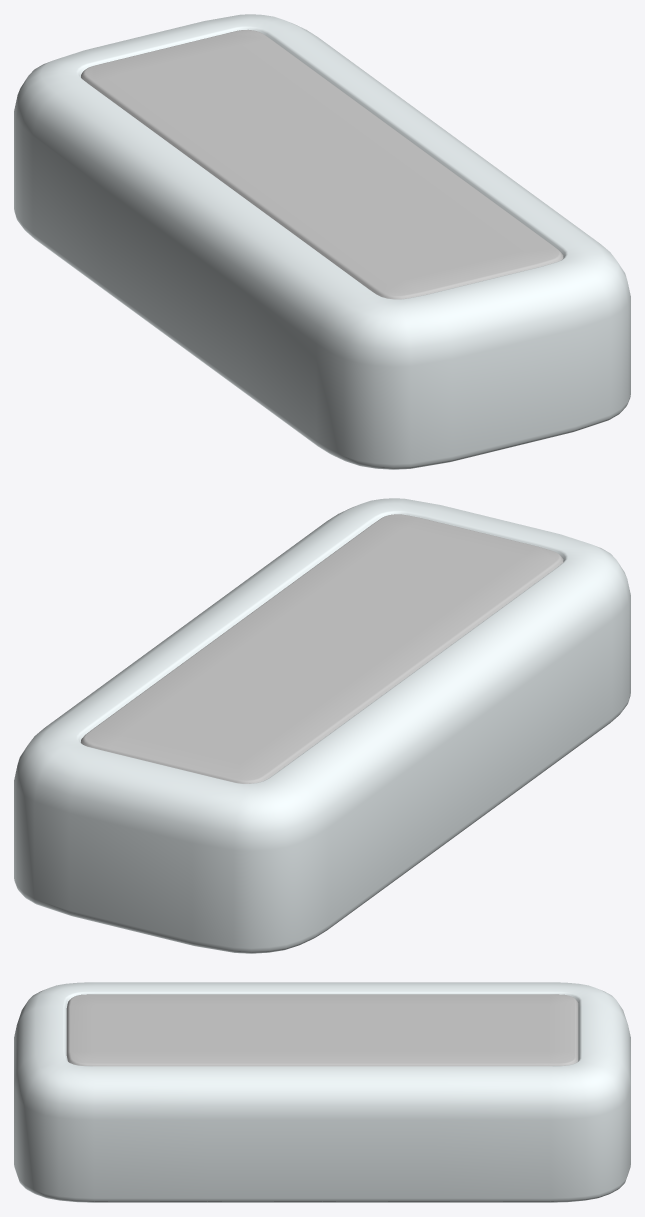
The model's file is busTop.fbx.
3 renders of one model, top to bottom at view 1: azimuth 30°, elevation 25°; view 2: azimuth 150°, elevation 25°; view 3: azimuth 270°, elevation 25°, orthographic. The views are drawn at different scales.
Visible parts, largest first — view 1: BusTop; view 2: BusTop; view 3: BusTop.
Boxes of the visible parts, x1,y1,x2,y2 form: BusTop: (14,14,630,469); BusTop: (14,498,630,953); BusTop: (14,982,630,1202).
Bounding box in the file's own units: 421 × 199 × 944.
